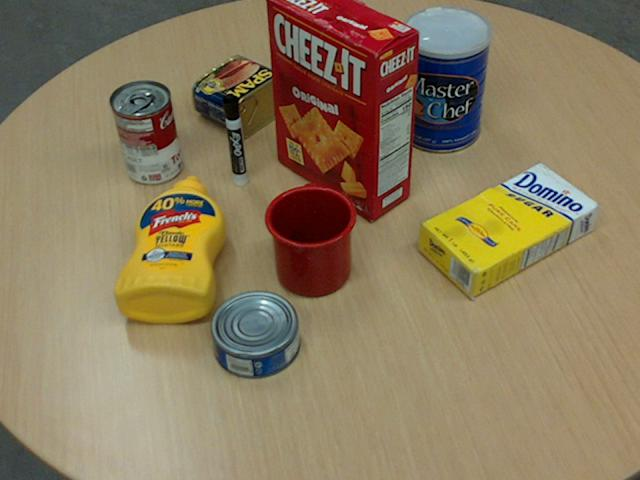cracker_box: (267, 0, 419, 218)
gelatin_box: (301, 45, 375, 106)
large_marker: (221, 93, 247, 186)
master_chef_can: (399, 6, 491, 153)
mug: (263, 184, 356, 296)
mustard_bottle: (113, 175, 225, 322)
potted_meat_can: (192, 54, 293, 137)
sugar_box: (417, 163, 599, 299)
tomato_soup_can: (109, 78, 181, 182)
tuna_fish_can: (209, 291, 299, 378)
